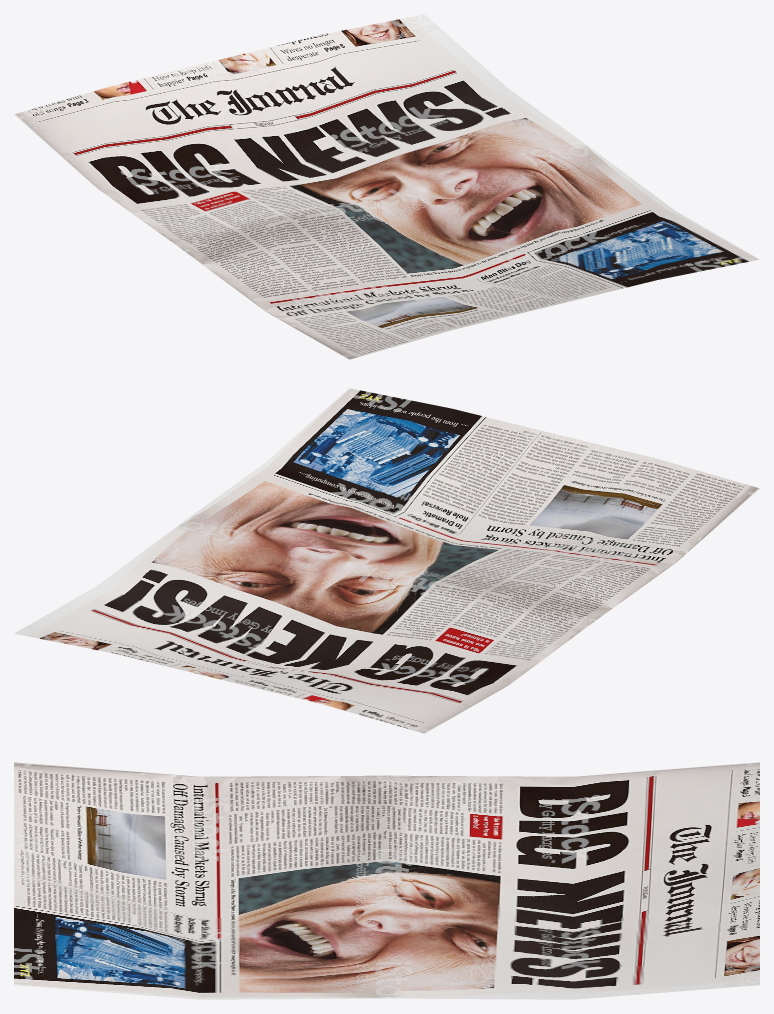
The model's file is newspaper.FBX.
The picture shows the model from 3 angles, top to bottom: view 1: azimuth 30°, elevation 25°; view 2: azimuth 150°, elevation 25°; view 3: azimuth 270°, elevation 25°; orthographic projection. The views are drawn at different scales.
Visible parts, largest first — view 1: Plane001; view 2: Plane001; view 3: Plane001.
Boxes of the visible parts, x1=… form: Plane001: x1=14, y1=14, x2=759, y2=359; Plane001: x1=14, y1=388, x2=759, y2=733; Plane001: x1=14, y1=762, x2=759, y2=999.
Size of the model in its own units: 21 by 2.06 by 29.7.
Materials: 1 (1 with a texture image).
